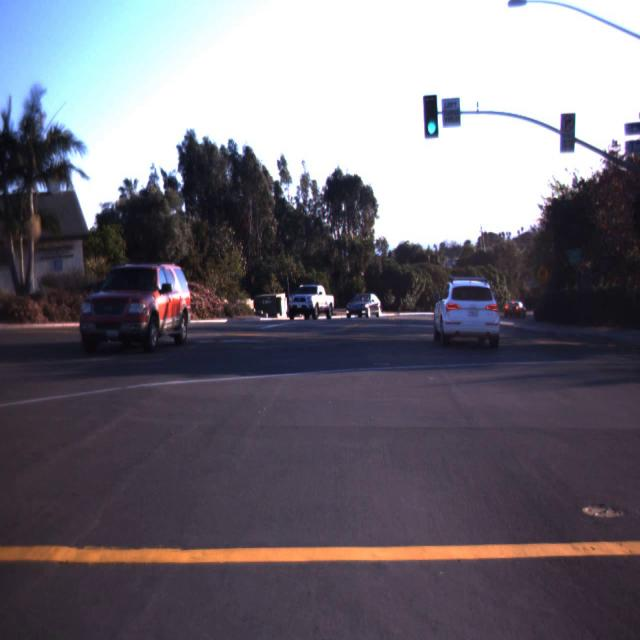go: (428, 123, 435, 133)
go traffic light: (421, 85, 442, 139)
